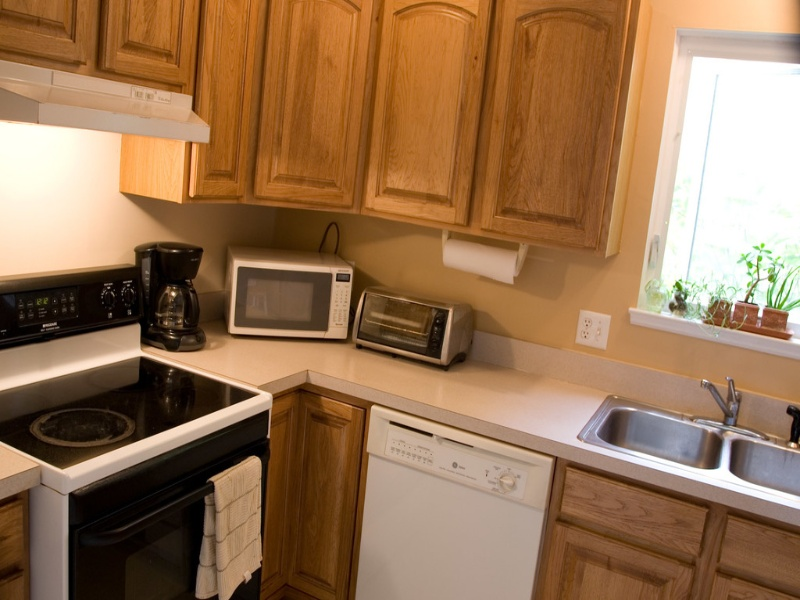oven: (61, 410, 271, 600)
